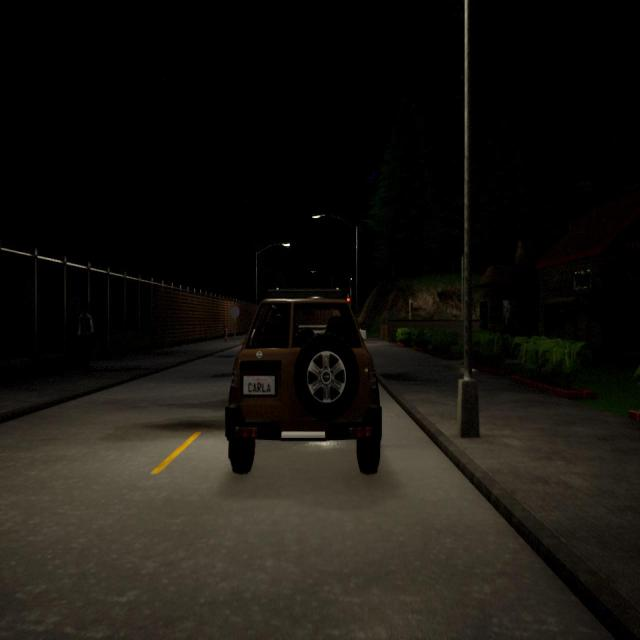Pedestrian: (76, 302, 95, 377)
Traffic_Signs: (230, 306, 240, 317)
Vehicle: (225, 289, 381, 473)
traffic_light: (410, 303, 413, 313), (347, 298, 350, 306)
